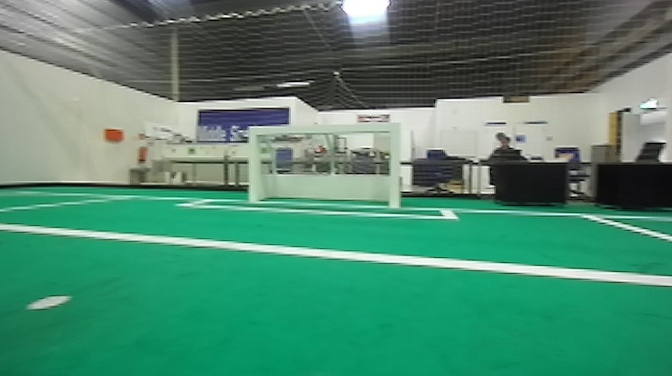goalpost: (383, 115, 406, 210), (245, 123, 260, 202)
